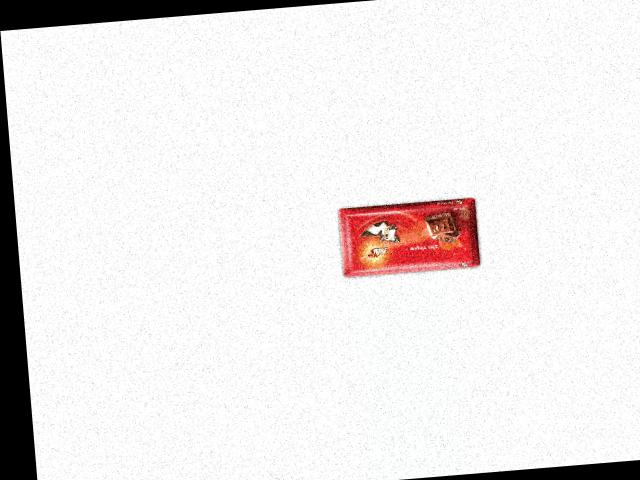chocolate: (329, 192, 482, 278)
